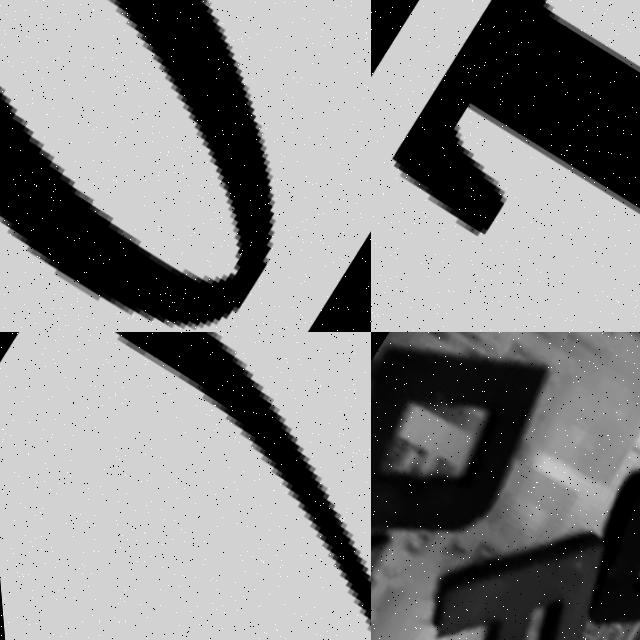0: (0, 0, 371, 332)
7: (0, 332, 371, 640)
D: (371, 332, 561, 600)
F: (384, 475, 639, 640)
L: (371, 0, 640, 332)
W: (547, 430, 640, 640)
Y: (371, 472, 406, 640)
